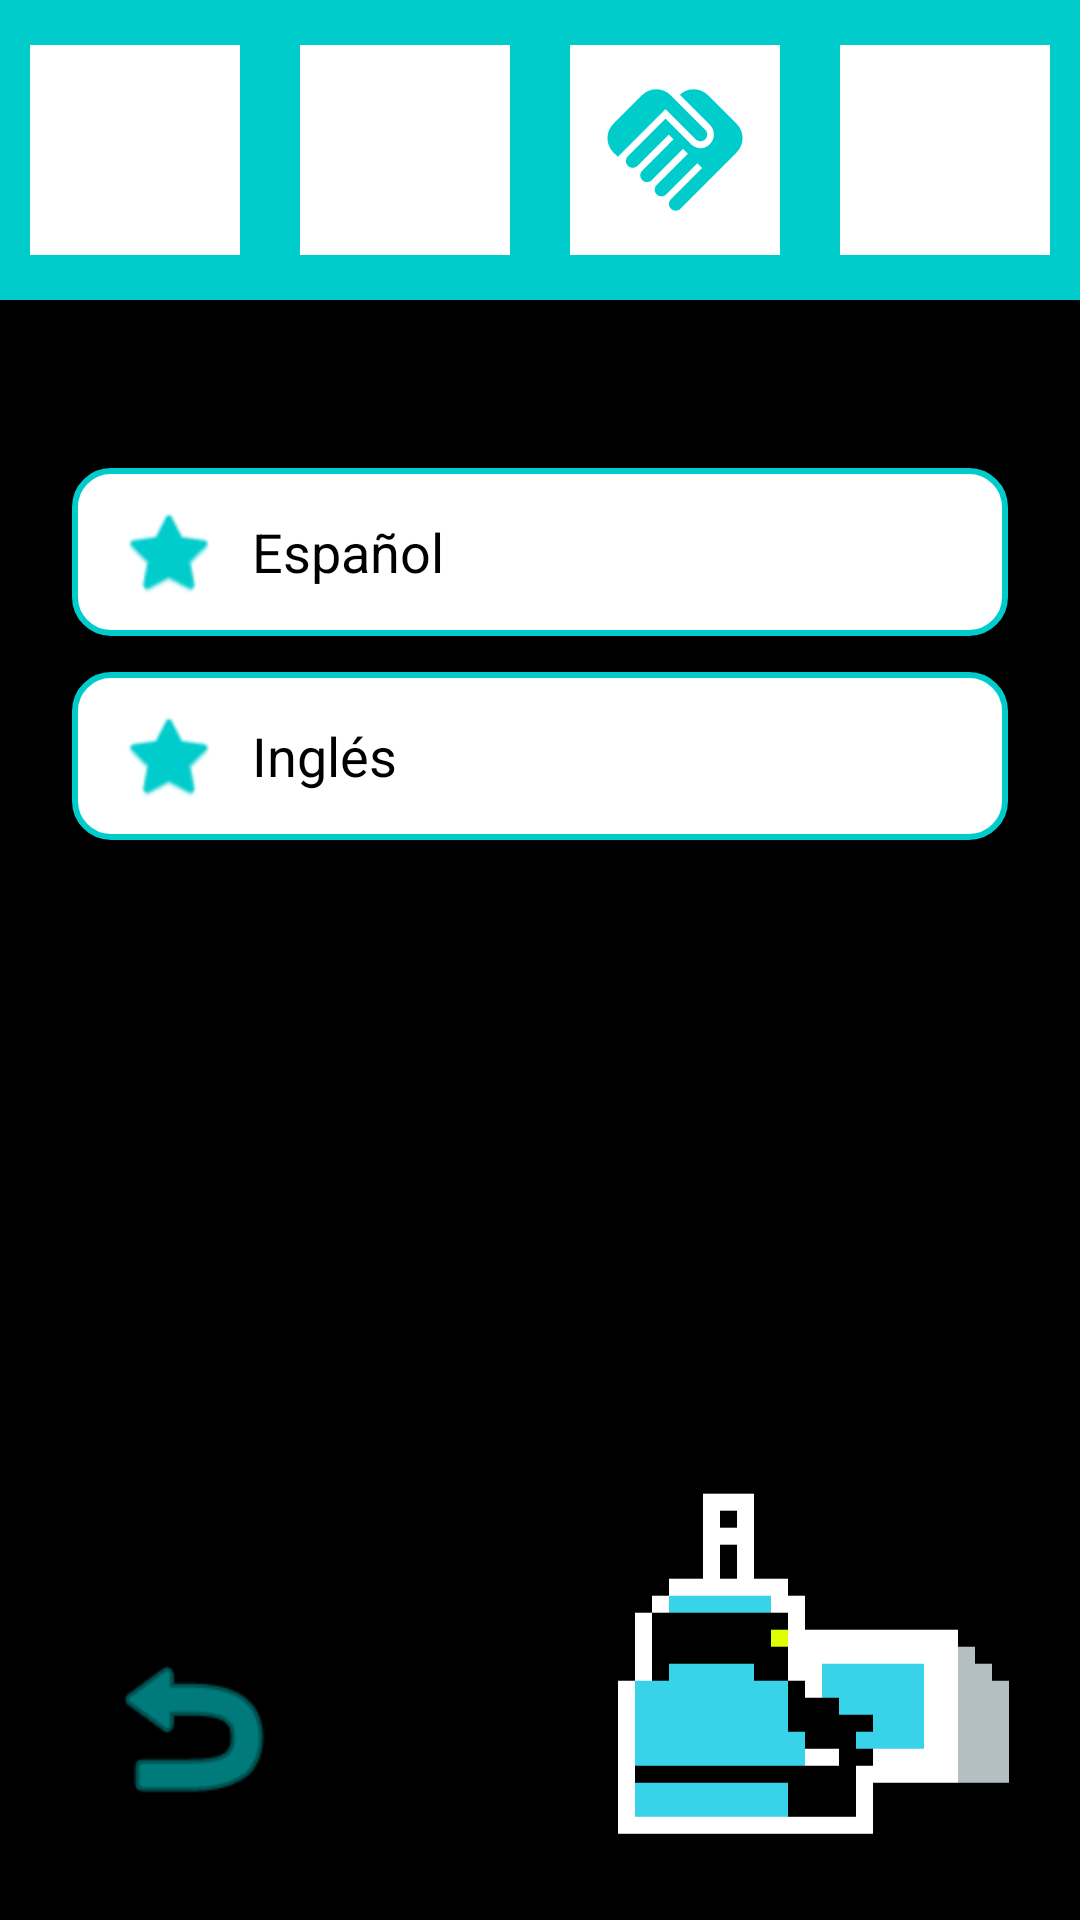

Screen size 1080x1920. Icon name, then its box in pixels as (x1, y1, x2, y2):
Atrás: (125, 1667, 264, 1792)
Entorno compartido: (570, 45, 780, 255)
star on: (129, 514, 209, 592)
